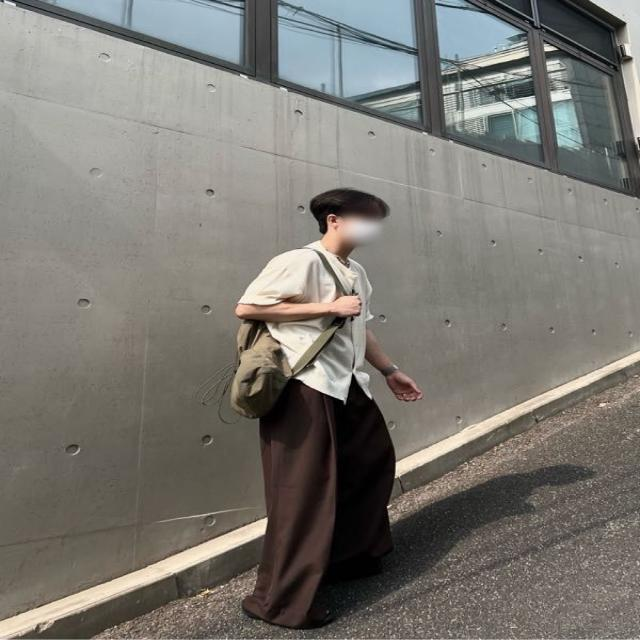shortsleeve: (236, 243, 376, 403)
slacks: (251, 367, 400, 626)
